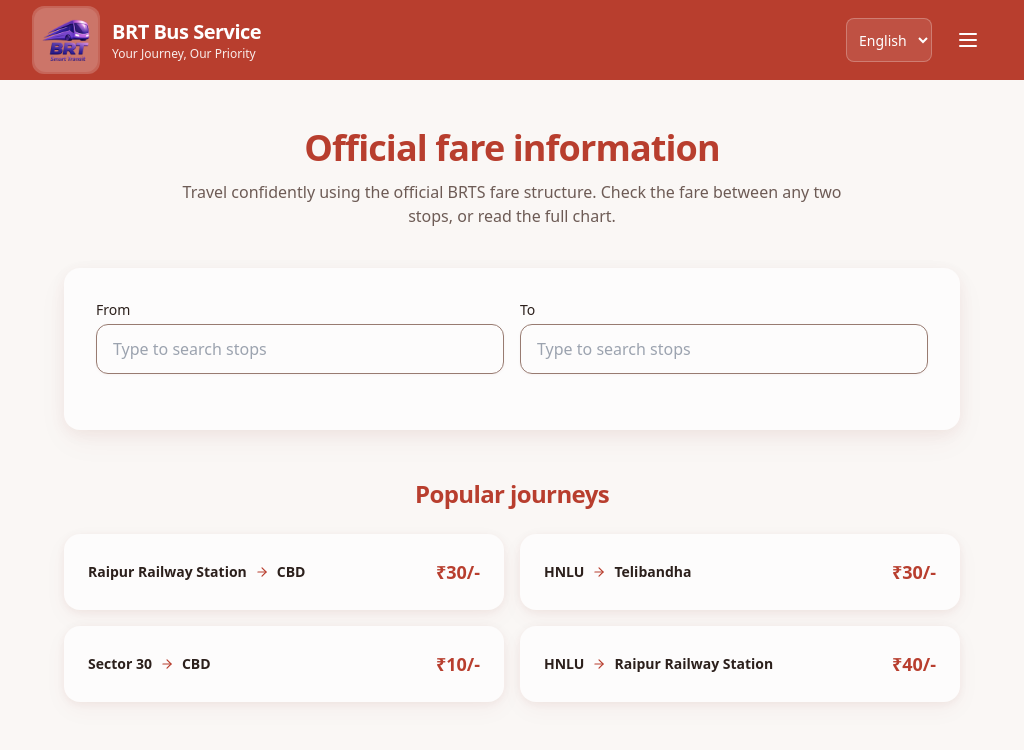
checking a fare between two stops › prices the journey from the official chart
In the field labelled "From": x=300, y=349 [96,324,504,374], type "HNLU"
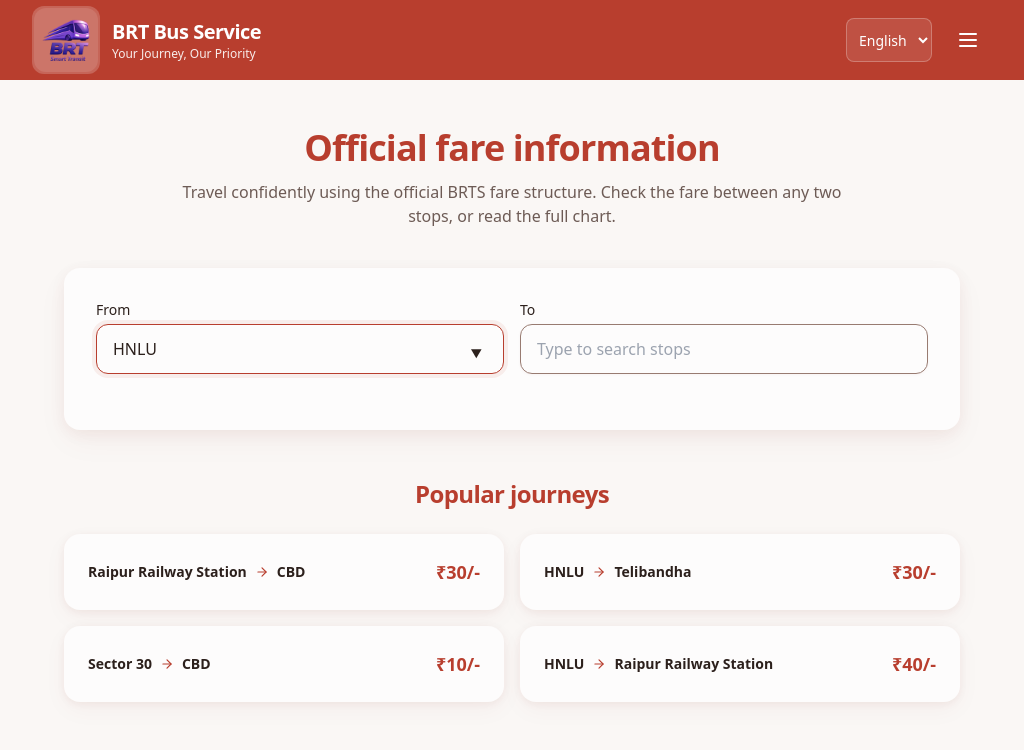
In the field labelled "To": x=724, y=349 [520,324,928,374], type "Balco Medical Center"
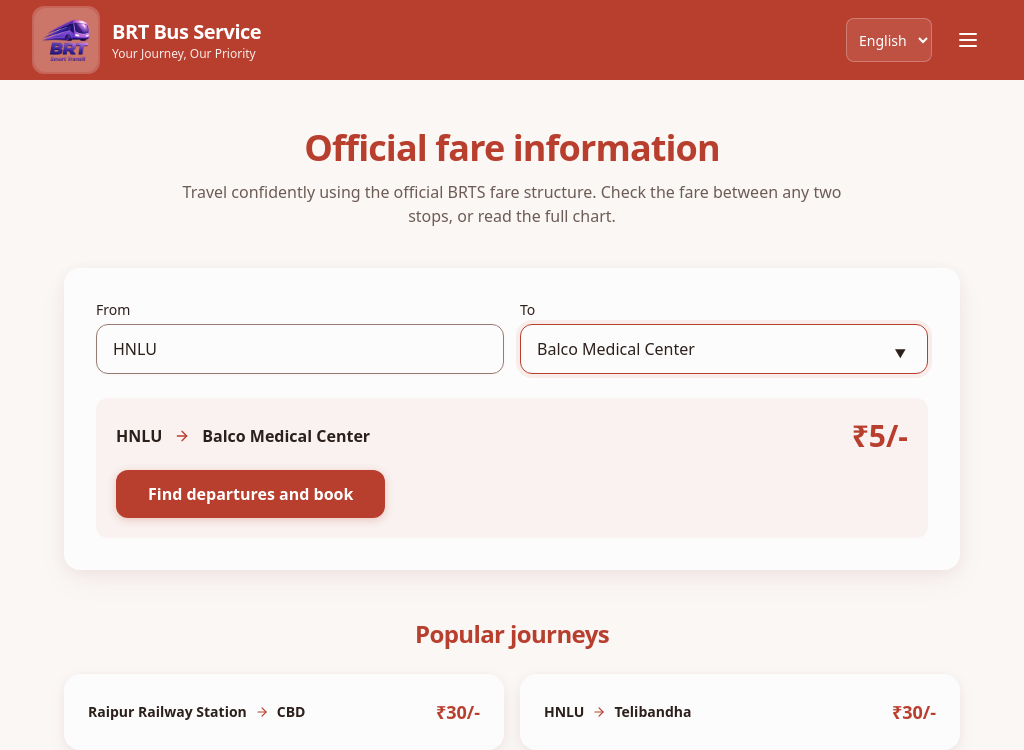
Now the text "₹5/-" is shown, box [852,418,908,454]
